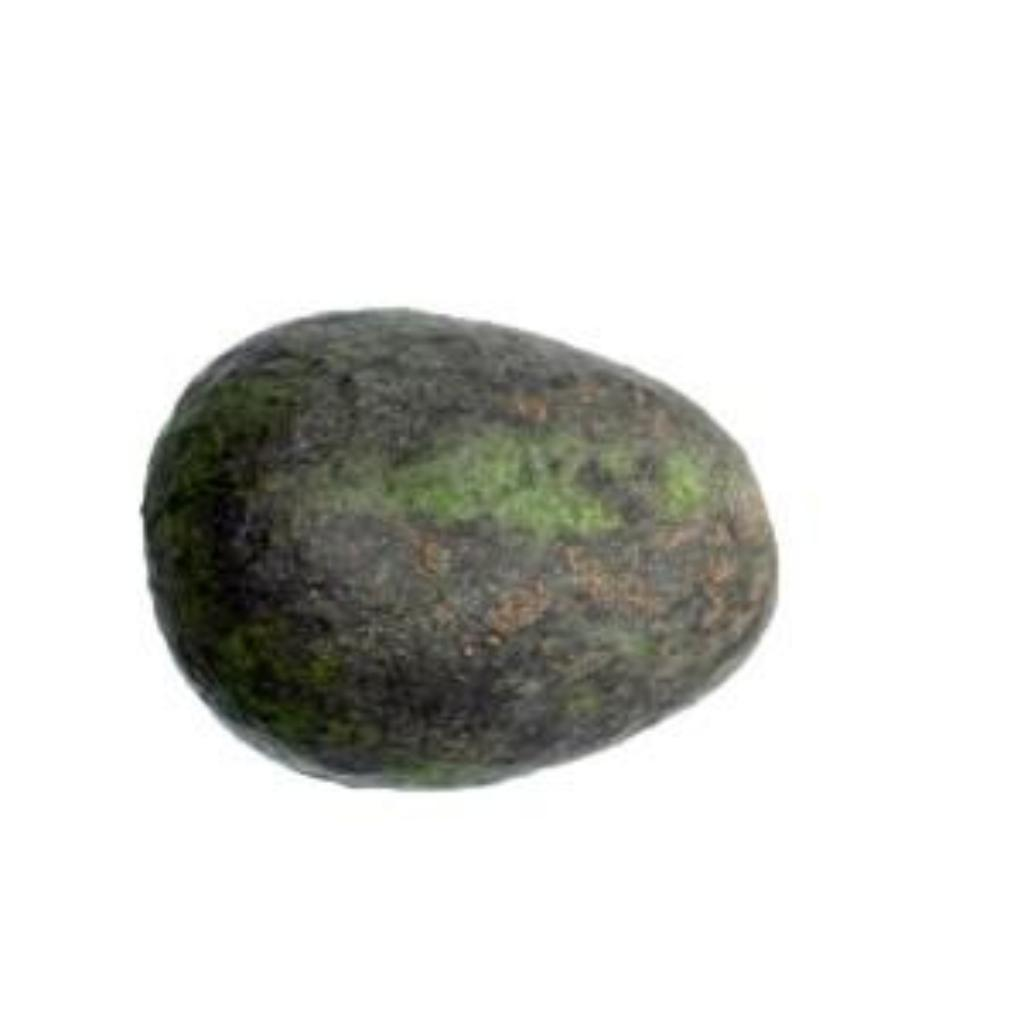antracnosis_fruto: (148, 310, 756, 778)
